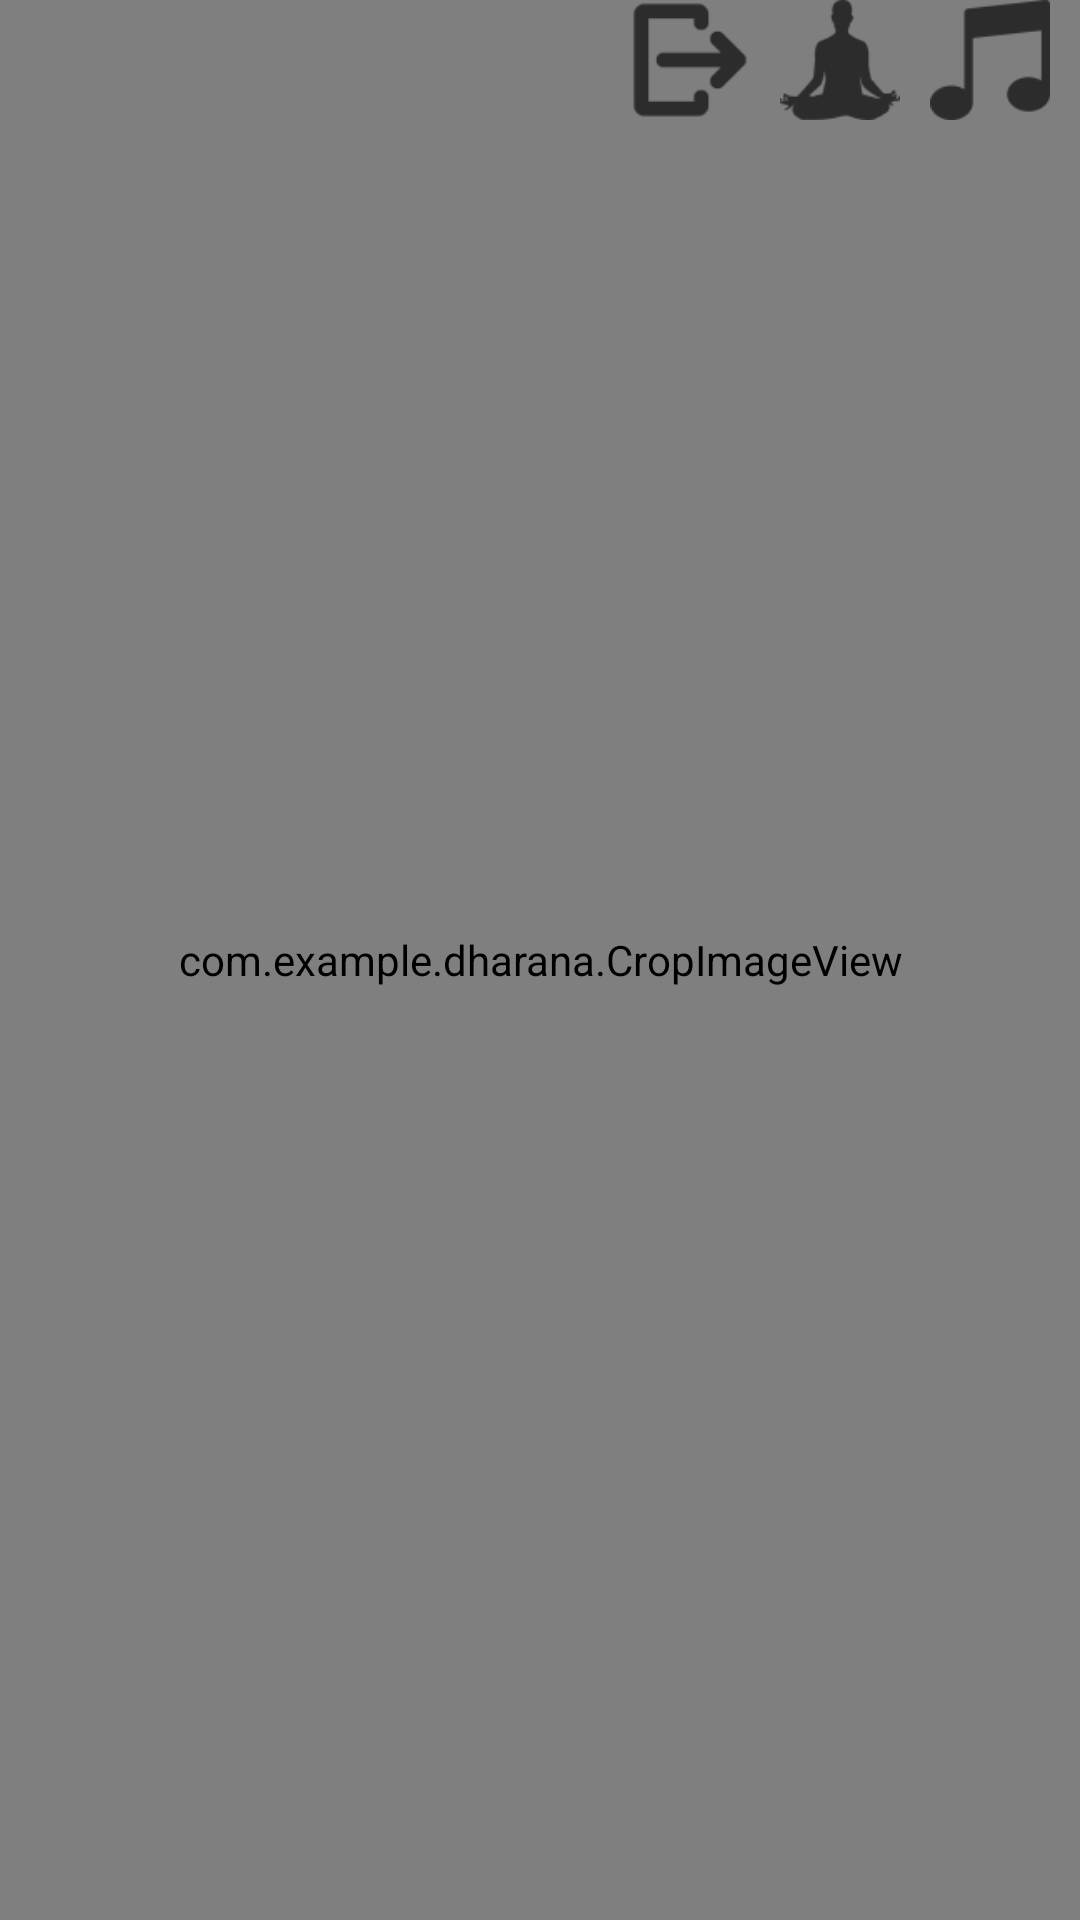

Icon bounding boxes for this 1080 x 1920 phone screenshot, format (x1, y1, x2, y2):
Toggle music button: (930, 0, 1050, 120)
